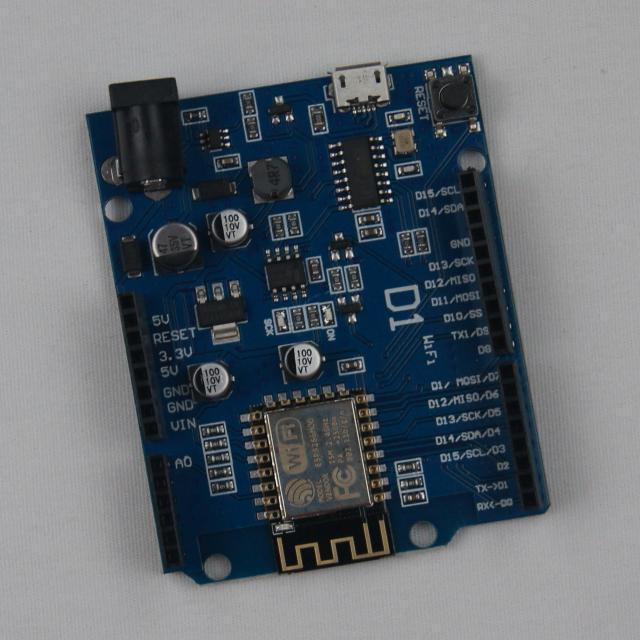Arduino Uno WiFi Shield: (87, 56, 549, 585)
